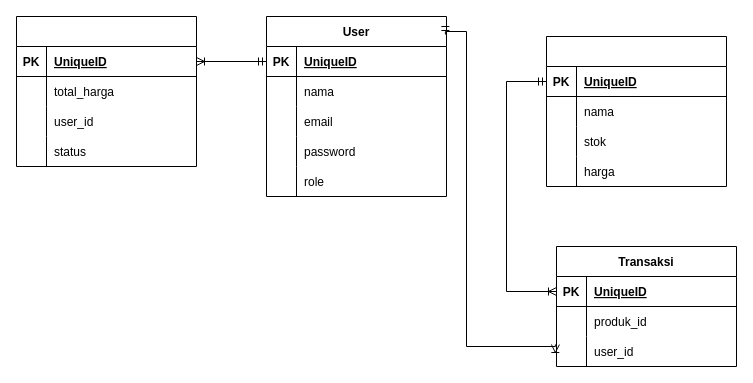
The diagram is 753 pixels wide and 383 high, and some of its shapes have lost their labels. The box of each missing label's shape, as (x1, y1, x2, y2) in pixels:
Pembayaran: (16, 16, 196, 166)
Produk: (546, 36, 726, 186)
